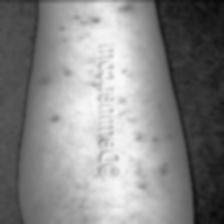Toxin: (158, 158, 170, 180), (62, 63, 78, 77), (88, 16, 106, 28), (150, 99, 166, 112), (118, 2, 138, 12), (88, 75, 96, 90), (117, 95, 129, 105), (138, 182, 148, 192), (52, 114, 63, 122), (150, 134, 161, 142), (121, 67, 131, 75), (58, 24, 66, 32), (74, 12, 80, 22), (40, 76, 48, 82), (166, 132, 174, 138), (134, 134, 142, 140), (115, 221, 127, 224)
